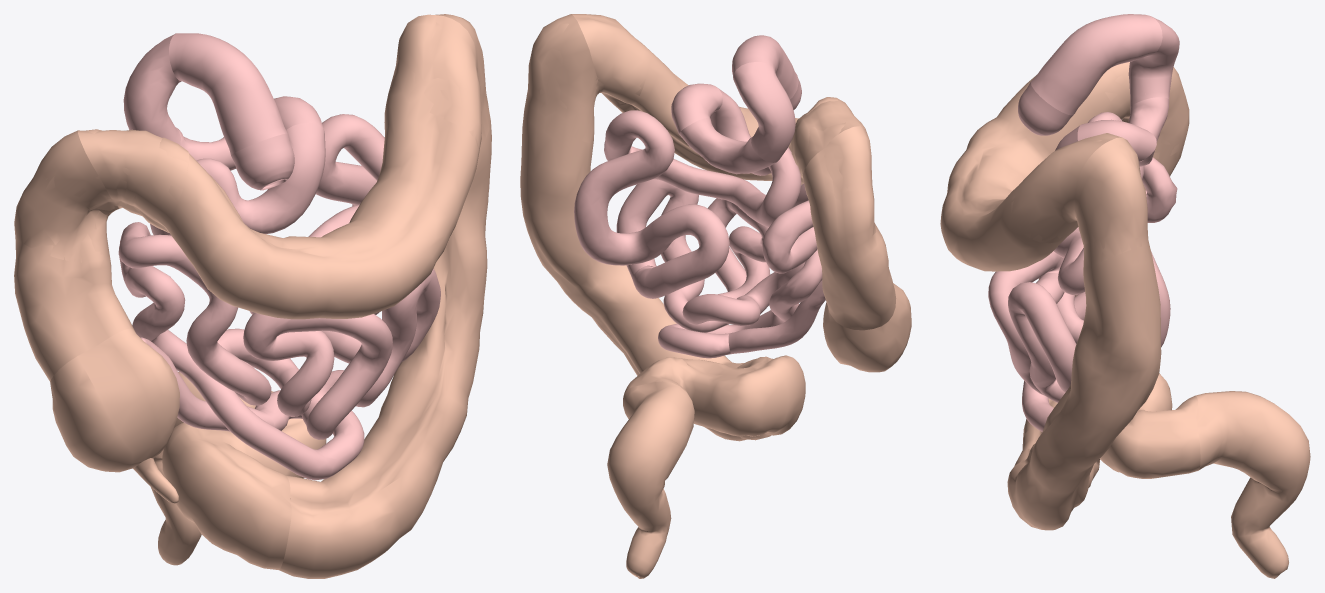
Rendered from gut.glb.
3 renders of one model, left to right at view 1: azimuth 30°, elevation 25°; view 2: azimuth 150°, elevation 25°; view 3: azimuth 270°, elevation 25°, orthographic. The views are drawn at different scales.
Parts seen in each view (by area): view 1: VH_F_transverse_colon, VH_F_ileum, VH_F_descending_colon, VH_F_ascending_colon, VH_F_sigmoid_colon, VH_F_caecum, VH_F_jejenum, VH_F_duodenum_superior, VH_F_duodenum_descending, VH_F_hepatic_flexure_of_colon, VH_F_duodenal_ampulla, VH_F_rectum (+5 smaller); view 2: VH_F_descending_colon, VH_F_jejenum, VH_F_ileum, VH_F_ascending_colon, VH_F_rectum, VH_F_transverse_colon, VH_F_sigmoid_colon, VH_F_caecum, VH_F_duodenum_descending, VH_F_duodenum_horizontal, VH_F_ileum_terminal, VH_F_duodenum_superior (+3 smaller); view 3: VH_F_descending_colon, VH_F_transverse_colon, VH_F_rectum, VH_F_ileum, VH_F_duodenum_superior, VH_F_sigmoid_colon, VH_F_jejenum, VH_F_duodenum_descending, VH_F_ascending_colon, VH_F_duodenal_ampulla, VH_F_duodenum_ascending, VH_F_duodenum_horizontal (+1 smaller).
Boxes of the visible parts, x1,y1,x2,y2 form: VH_F_transverse_colon: [78, 14, 481, 319]; VH_F_ileum: [118, 222, 440, 480]; VH_F_descending_colon: [279, 14, 491, 578]; VH_F_ascending_colon: [14, 130, 135, 381]; VH_F_sigmoid_colon: [162, 391, 326, 569]; VH_F_caecum: [50, 328, 179, 472]; VH_F_jejenum: [150, 114, 384, 363]; VH_F_duodenum_superior: [169, 33, 287, 154]; VH_F_duodenum_descending: [123, 33, 181, 144]; VH_F_hepatic_flexure_of_colon: [24, 129, 189, 262]; VH_F_duodenal_ampulla: [231, 133, 294, 190]; VH_F_rectum: [150, 372, 205, 565]; VH_F_descending_colon: [520, 14, 746, 441]; VH_F_jejenum: [574, 87, 801, 298]; VH_F_ileum: [616, 179, 822, 358]; VH_F_ascending_colon: [802, 126, 896, 330]; VH_F_rectum: [607, 381, 694, 578]; VH_F_transverse_colon: [571, 14, 865, 184]; VH_F_sigmoid_colon: [623, 355, 805, 440]; VH_F_caecum: [823, 283, 911, 372]; VH_F_duodenum_descending: [733, 62, 795, 162]; VH_F_duodenum_horizontal: [679, 118, 776, 174]; VH_F_ileum_terminal: [728, 280, 825, 353]; VH_F_duodenum_superior: [732, 35, 798, 99]; VH_F_descending_colon: [1007, 137, 1161, 530]; VH_F_transverse_colon: [940, 62, 1130, 271]; VH_F_rectum: [1195, 391, 1310, 578]; VH_F_ileum: [988, 157, 1177, 431]; VH_F_duodenum_superior: [1030, 14, 1162, 115]; VH_F_sigmoid_colon: [1023, 373, 1200, 478]; VH_F_jejenum: [1054, 112, 1170, 347]; VH_F_duodenum_descending: [1128, 16, 1179, 107]; VH_F_ascending_colon: [1143, 67, 1189, 190]; VH_F_duodenal_ampulla: [1018, 82, 1073, 135]; VH_F_duodenum_ascending: [1077, 119, 1156, 161]; VH_F_duodenum_horizontal: [1128, 97, 1169, 166].
Bounding box in the file's own units: 0.2433 × 0.3094 × 0.1934.
